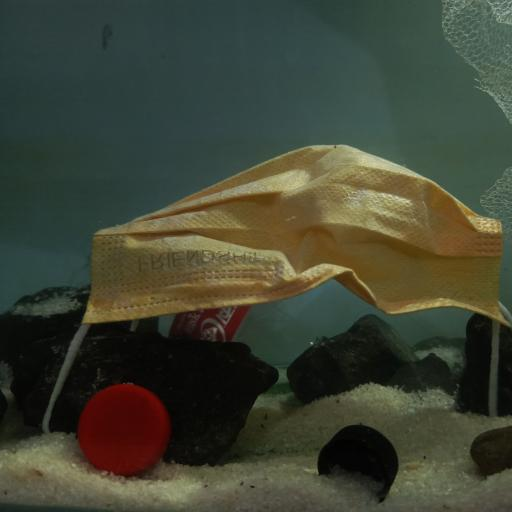bottle_cap: (76, 374, 173, 475), (313, 418, 401, 506)
mask: (82, 136, 512, 331)
net: (437, 0, 512, 218)
plastic_bottle: (155, 295, 331, 378)
